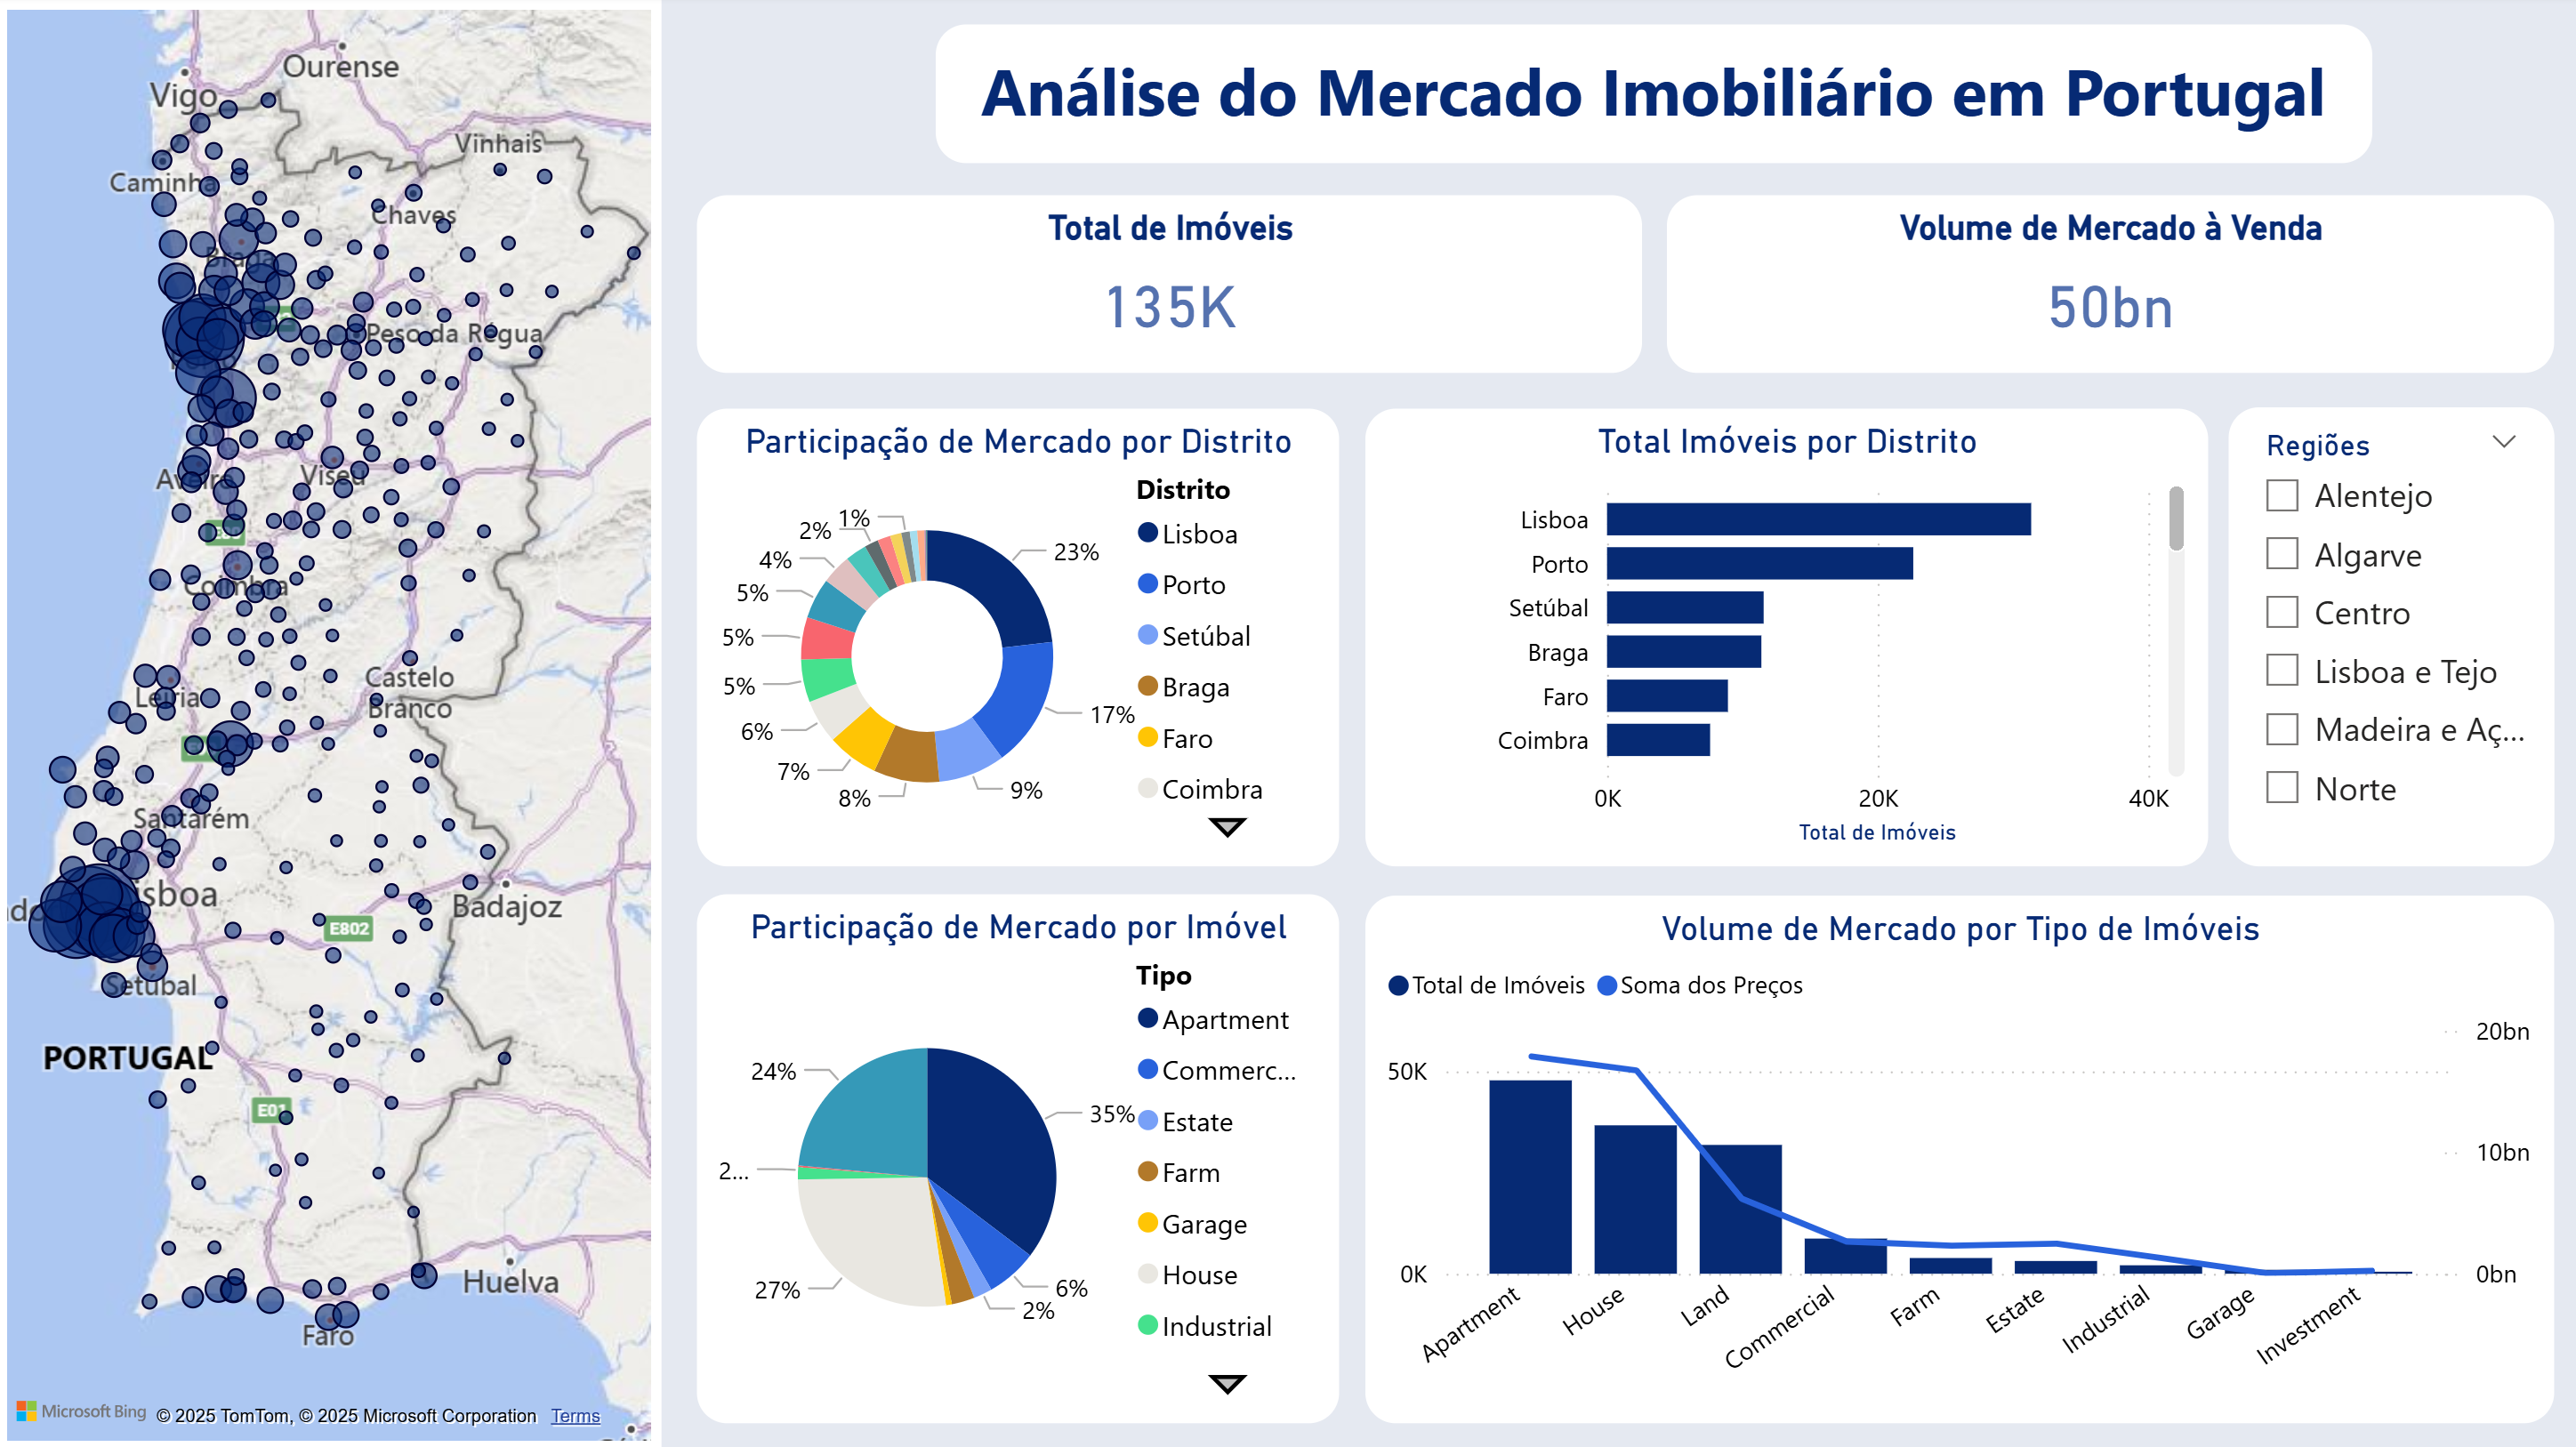

The dashboard page shown, as its layout file describes it:
{"tool":"powerbi","page":{"name":"Dasboard 1 ","canvas":[1280,720],"ordinal":0},"visuals":[{"type":"lineClusteredColumnComboChart","title":"Volume de Mercado por Tipo de Imóveis","fields":{"Y":["Analise 2.Qtd_Vendas"],"Y2":["Sum(Analise 2.Price)"],"Category":["Analise 2.Type_Agregado"]},"box":[678,445.4,588.4,261.6],"z":1000},{"type":"clusteredBarChart","title":"Total Imóveis por Distrito","fields":{"Category":["Analise 2.District"],"Y":["Analise 2.Qtd_Vendas"]},"box":[677.8,203.8,417,226.6],"z":2000},{"type":"slicer","fields":{"Values":["Analise 2.Regiões"]},"box":[1105.3,203.7,161.1,227.2],"z":3000},{"type":"donutChart","title":"Participação de Mercado por Distrito","fields":{"Category":["Analise 2.District"],"Y":["Analise 2.Qtd_Vendas"]},"box":[346.6,203.8,317.7,226.6],"z":4000},{"type":"card","title":"Volume de Mercado à Venda","fields":{"Values":["Sum(Analise 2.Price)"]},"box":[827.4,98.7,439,87.8],"z":5000},{"type":"map","fields":{"Category":["Pop_Densi.Location"],"Size":["Sum(Pop_Densi.N.º/ km² )"]},"box":[0,1.4,329.1,718.8],"z":6000},{"type":"textbox","box":[465.3,13.6,711.5,68.8],"z":7000},{"type":"pieChart","title":"Participação de Mercado por Imóvel","fields":{"Y":["Analise 2.Qtd_Vendas"],"Category":["Analise 2.Type_Agregado"]},"box":[346.6,444.9,317.7,261.8],"z":8000},{"type":"card","title":"Total de Imóveis","fields":{"Values":["Analise 2.Qtd_Vendas"]},"box":[346.7,98.7,468,87.8],"z":9000}]}

Visuals, with their boxes in screenshot pixels (x1, y1, x2, y2), scaled from the page's 1280x720 canvas onto the 2576x1447 screenshot:
"Volume de Mercado por Tipo de Imóveis" lineClusteredColumnComboChart: pyautogui.locateOnScreen(1364, 895, 2548, 1421)
"Total Imóveis por Distrito" clusteredBarChart: pyautogui.locateOnScreen(1364, 410, 2203, 865)
slicer - Analise 2.Regiões: pyautogui.locateOnScreen(2225, 409, 2548, 866)
"Participação de Mercado por Distrito" donutChart: pyautogui.locateOnScreen(697, 410, 1337, 865)
"Volume de Mercado à Venda" card: pyautogui.locateOnScreen(1665, 198, 2548, 374)
map - Pop_Densi.Location x Sum(Pop_Densi.N.º/ km² ): pyautogui.locateOnScreen(0, 3, 663, 1446)
textbox: pyautogui.locateOnScreen(937, 28, 2369, 165)
"Participação de Mercado por Imóvel" pieChart: pyautogui.locateOnScreen(697, 894, 1337, 1420)
"Total de Imóveis" card: pyautogui.locateOnScreen(697, 198, 1639, 374)
